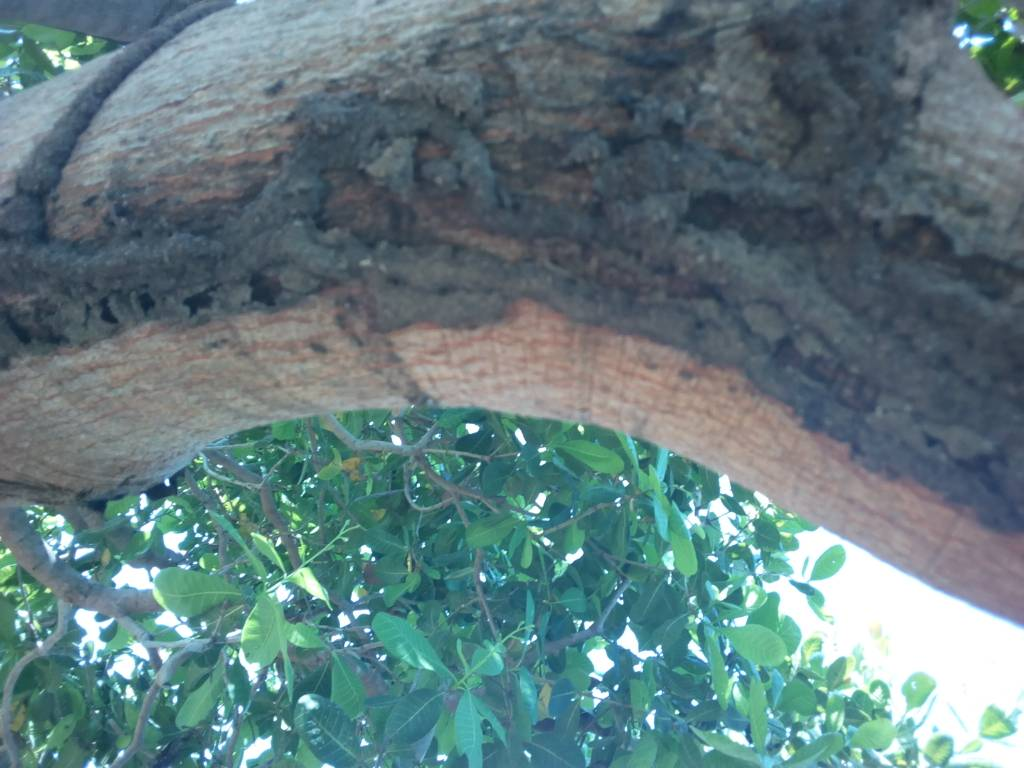Virose: (469, 40, 1016, 491), (1, 99, 357, 391)
